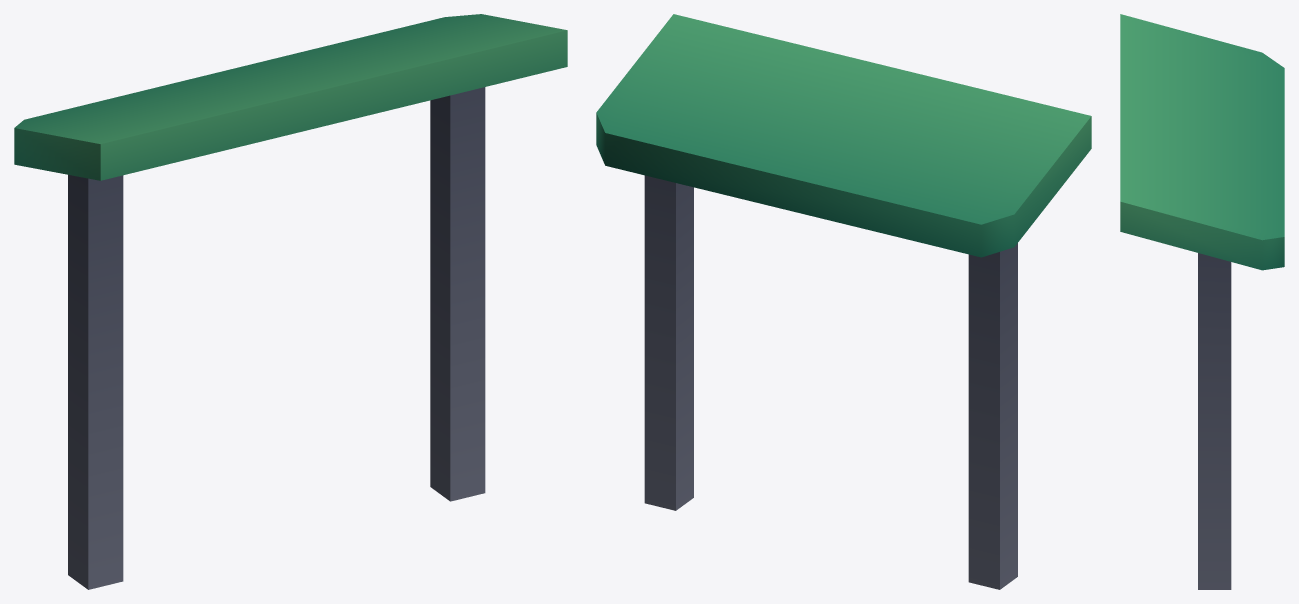
Rendered from detail-awning.glb.
The picture shows the model from 3 angles, left to right: view 1: azimuth 30°, elevation 25°; view 2: azimuth 150°, elevation 25°; view 3: azimuth 270°, elevation 25°; orthographic projection. The views are drawn at different scales.
Visible parts, largest first — view 1: detail-awning; view 2: detail-awning; view 3: detail-awning.
Part boxes in pixels (x1,y1,x2,y2): detail-awning: (14,14,567,589); detail-awning: (596,14,1091,589); detail-awning: (1120,14,1284,589).
Bounding box in the file's own units: 0.4 × 0.4 × 0.1479.
